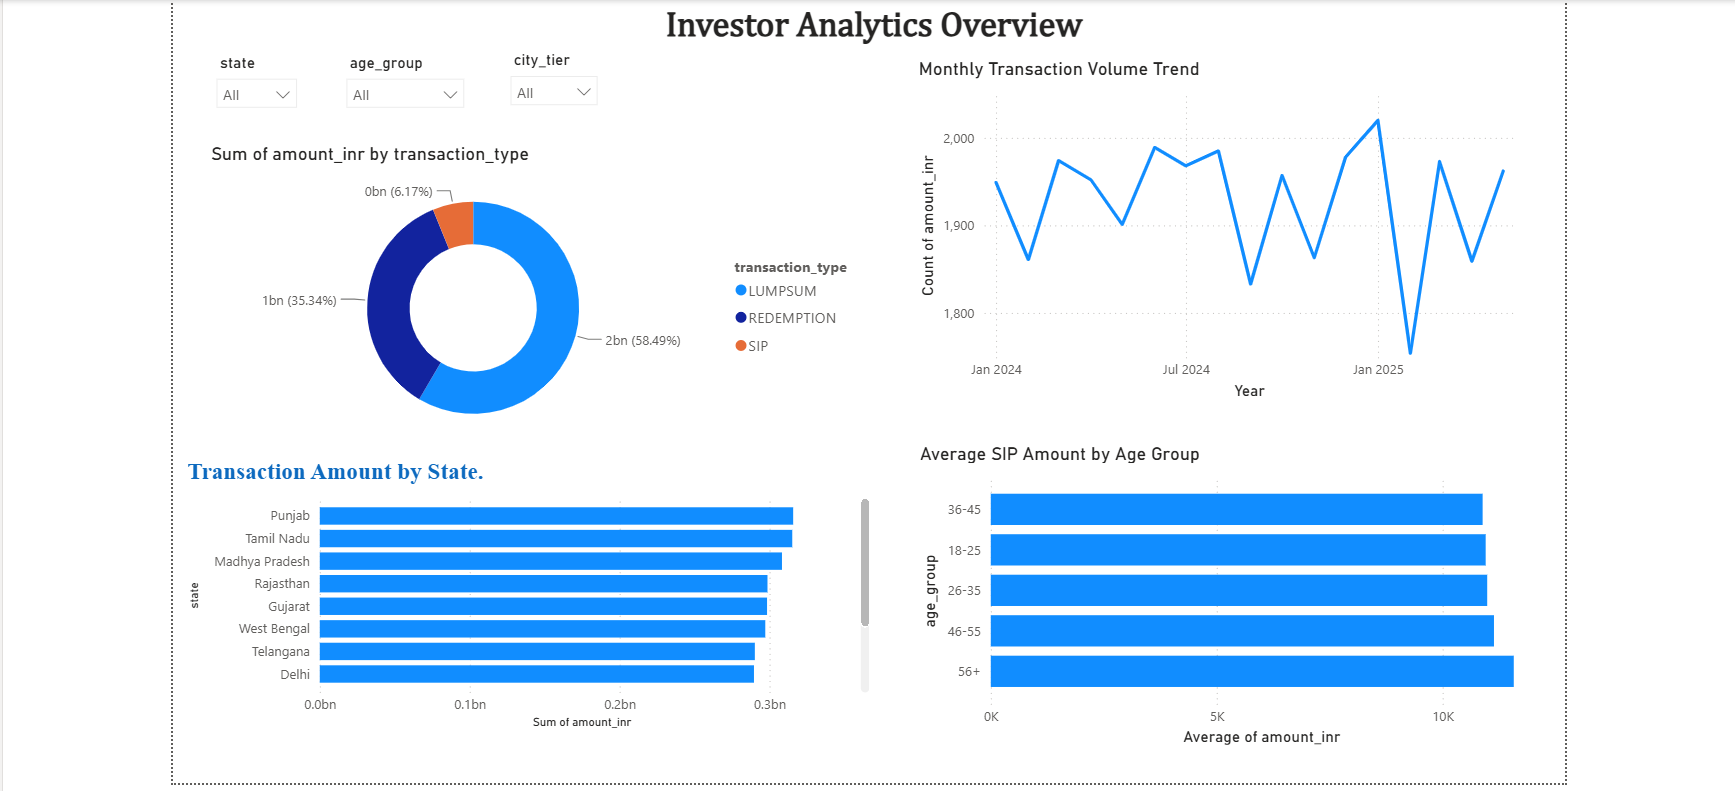

Layout of this report page (visuals, bound fields, positions):
{"tool":"powerbi","page":{"name":"Investor Analytics","canvas":[1280,720],"ordinal":2},"visuals":[{"type":"textbox","box":[10,0,1270,80],"z":0},{"type":"clusteredBarChart","title":"Transaction Amount by State.","fields":{"Y":["Sum(08_investor_transactions_clean.amount_inr)"],"Category":["08_investor_transactions_clean.state"]},"box":[8.3,421.7,636.7,253.3],"z":2000},{"type":"donutChart","fields":{"Category":["08_investor_transactions_clean.transaction_type"],"Y":["Sum(08_investor_transactions_clean.amount_inr)"]},"box":[30,131.7,610,283.3],"z":3000},{"type":"slicer","fields":{"Values":["08_investor_transactions_clean.state"]},"box":[29.7,43.8,93.8,90.6],"z":4000},{"type":"slicer","fields":{"Values":["08_investor_transactions_clean.age_group"]},"box":[150,43.8,128.1,87.5],"z":5000},{"type":"slicer","fields":{"Values":["08_investor_transactions_clean.city_tier"]},"box":[300,40.6,100,90.6],"z":6000},{"type":"clusteredBarChart","title":"Average SIP Amount by Age Group","fields":{"Category":["08_investor_transactions_clean.age_group"],"Y":["Avg(08_investor_transactions_clean.amount_inr)"]},"box":[681.7,406.7,583.3,283.3],"z":7000},{"type":"lineChart","title":"Monthly Transaction Volume Trend","fields":{"Y":["CountNonNull(08_investor_transactions_clean.amount_inr)"],"Category":["08_investor_transactions_clean.transaction_date.Variation.Date Hierarchy.Year","08_investor_transactions_clean.transaction_date.Variation.Date Hierarchy.Quarter","08_investor_transactions_clean.transaction_date.Variation.Date Hierarchy.Month","08_investor_transactions_clean.transaction_date.Variation.Date Hierarchy.Day"]},"box":[681.2,53.5,571.2,318.3],"z":8000}]}

Visuals, with their boxes on the page's 1280x720 design canvas (x1, y1, x2, y2). These are canvas units, not pixel positions in the 1735x791 screenshot, which may show the page scaled, cropped or inside an application window:
textbox: (left=10, top=0, right=1280, bottom=80)
"Transaction Amount by State." clusteredBarChart: (left=8, top=422, right=645, bottom=675)
donutChart - 08_investor_transactions_clean.transaction_type x Sum(08_investor_transactions_clean.amount_inr): (left=30, top=132, right=640, bottom=415)
slicer - 08_investor_transactions_clean.state: (left=30, top=44, right=124, bottom=134)
slicer - 08_investor_transactions_clean.age_group: (left=150, top=44, right=278, bottom=131)
slicer - 08_investor_transactions_clean.city_tier: (left=300, top=41, right=400, bottom=131)
"Average SIP Amount by Age Group" clusteredBarChart: (left=682, top=407, right=1265, bottom=690)
"Monthly Transaction Volume Trend" lineChart: (left=681, top=54, right=1252, bottom=372)
